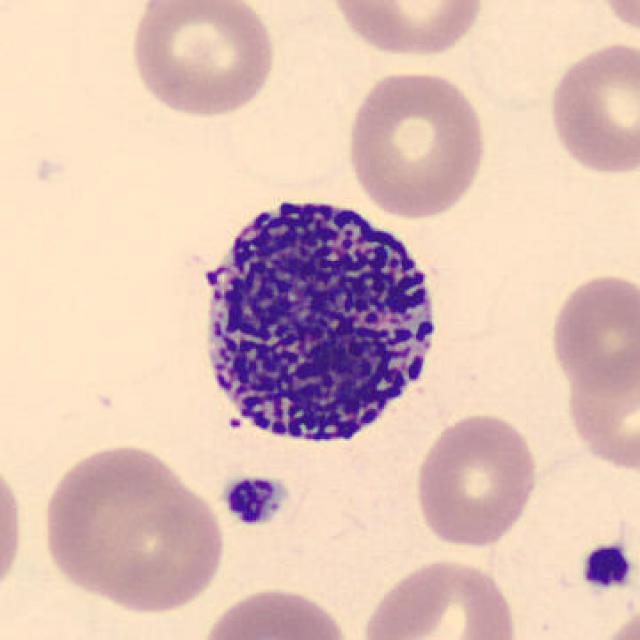Basophil: (183, 178, 457, 458)
Platelets: (218, 471, 290, 529), (578, 540, 634, 594)
RBC: (36, 439, 230, 617), (341, 66, 491, 220), (124, 0, 281, 120), (411, 409, 542, 550), (357, 553, 522, 640), (542, 37, 638, 178), (544, 268, 638, 395), (323, 0, 489, 62), (560, 352, 640, 478), (194, 582, 357, 640), (0, 449, 28, 610), (590, 0, 640, 44), (594, 601, 638, 640)
